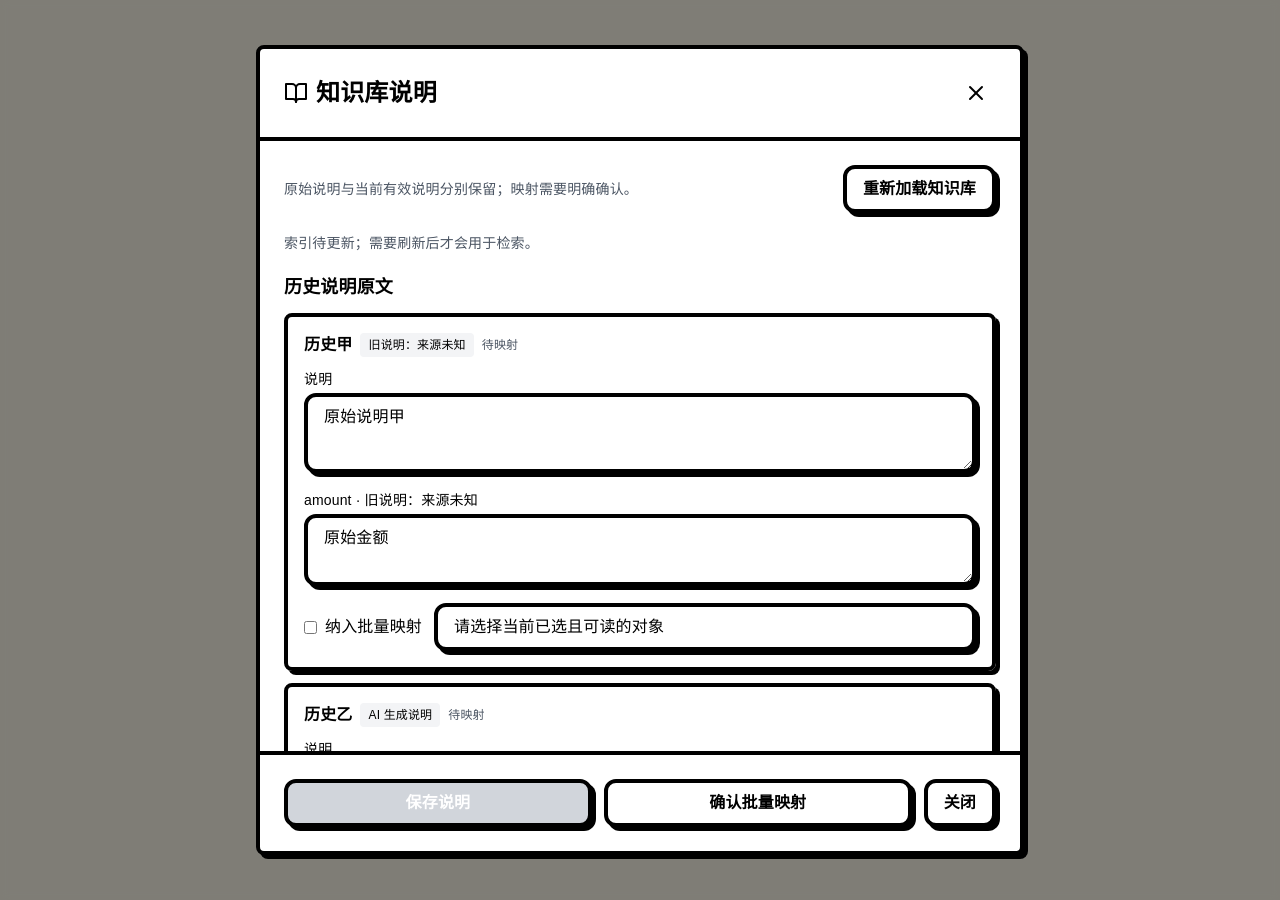
Test case: successful HTTP envelope without saved confirmation cannot report a saved edit
Step 1. Replace the text in the text box named "历史说明 1" with "未确认草稿" → x=640, y=433, box [304,393,976,473]
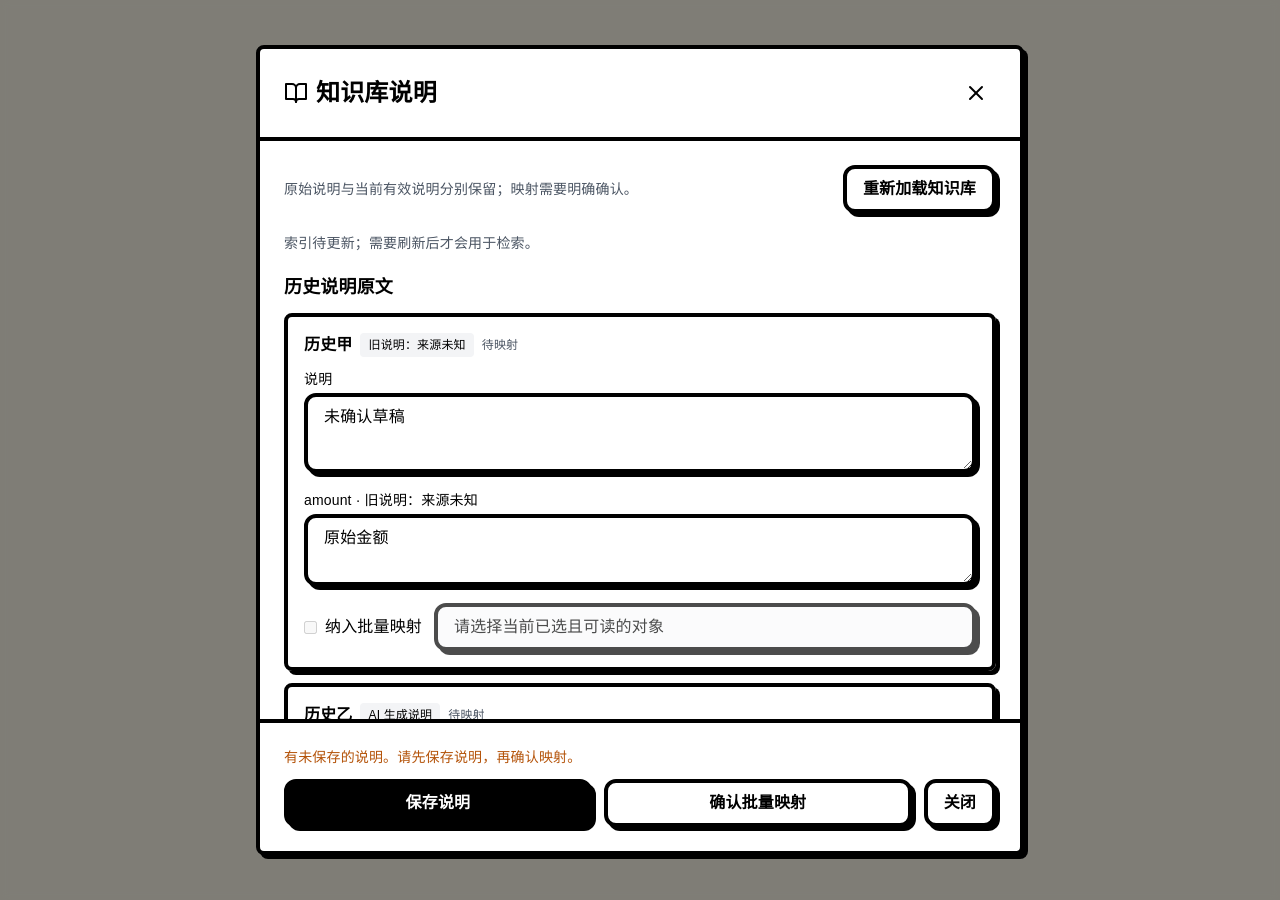
Step 2. Click the button "保存说明" → x=438, y=803, box [284,779,592,827]
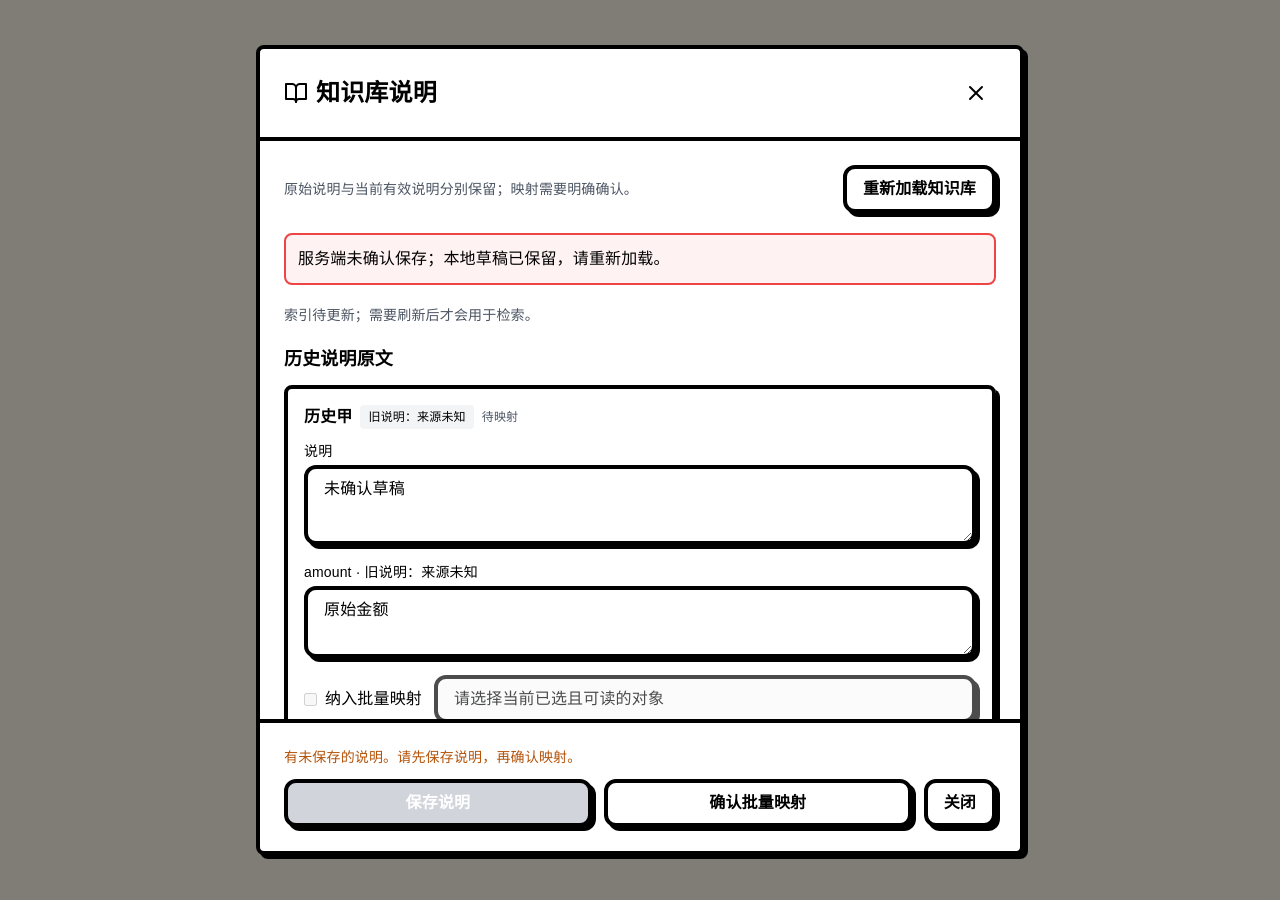
expect the text "服务端未确认保存；本地草稿已保留，请重新加载。" is shown: met, box [284,233,996,285]
